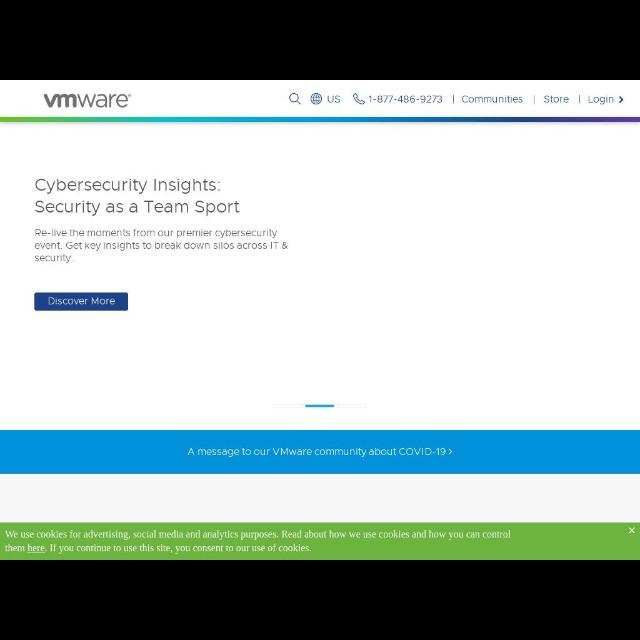icon: (288, 92, 302, 106), (351, 94, 365, 105), (310, 94, 322, 105), (618, 94, 624, 104), (629, 526, 635, 534)
image: (43, 92, 131, 108)
pageindicator: (273, 402, 367, 410)
panel: (1, 522, 639, 560)
text: (4, 528, 512, 554), (34, 228, 290, 264), (36, 178, 240, 218), (188, 447, 452, 459), (368, 94, 442, 104), (462, 94, 524, 104), (48, 298, 114, 306), (587, 95, 615, 106), (544, 94, 570, 104), (326, 95, 342, 104)
textbutton: (35, 291, 129, 311)
toolbar: (1, 82, 640, 116)
